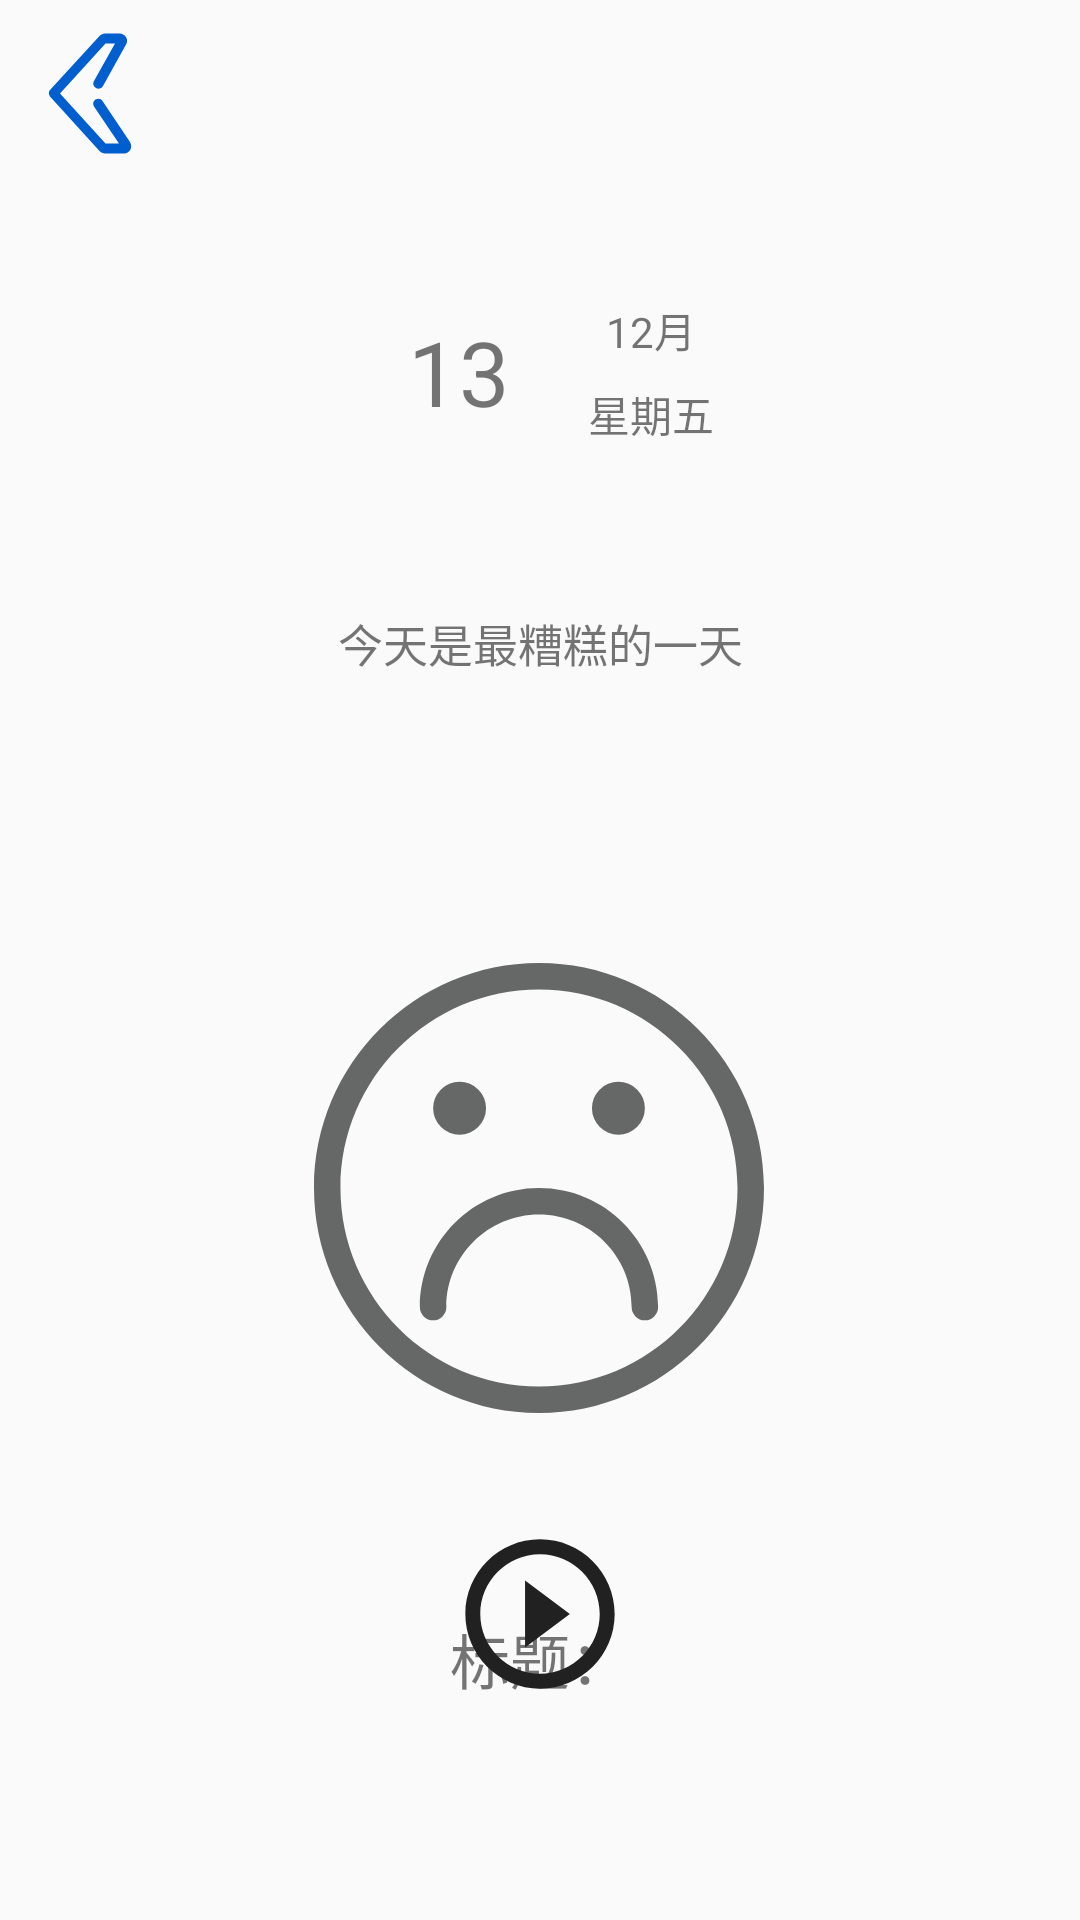

Where to tap for icons on this 1080 × 1920 app screen, as (x=x, y=y):
back: (x=90, y=93)
play: (x=540, y=1614)
